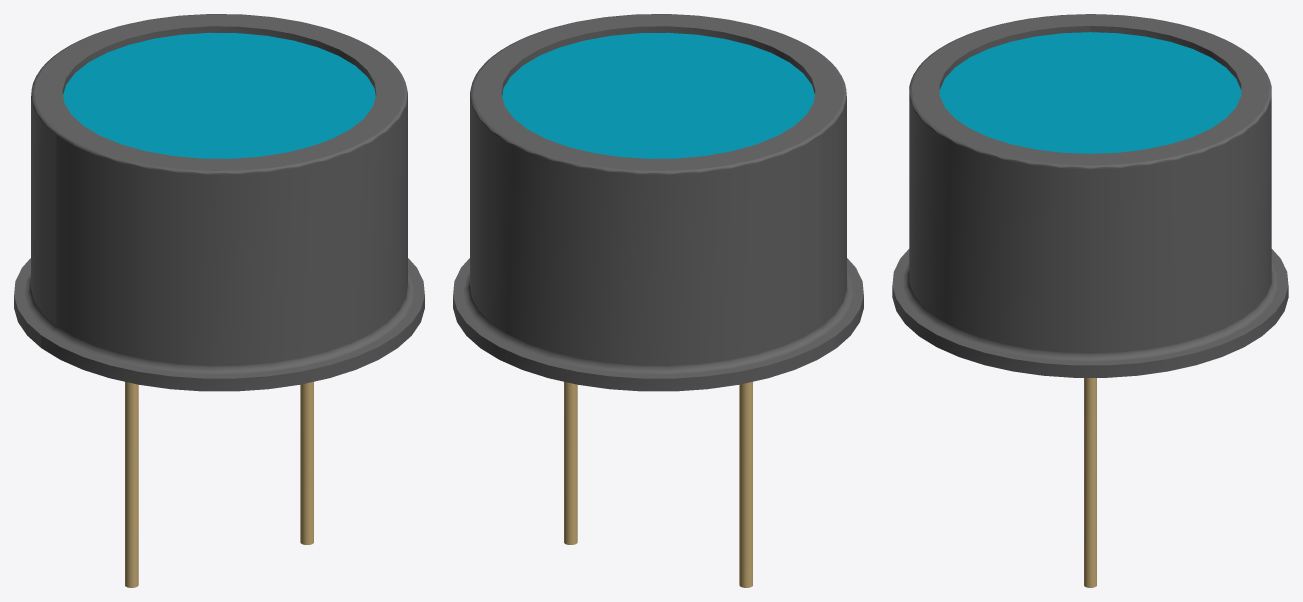
The model's file is kc-to-8-2_window.glb.
The picture shows the model from 3 angles, left to right: view 1: azimuth 30°, elevation 25°; view 2: azimuth 150°, elevation 25°; view 3: azimuth 270°, elevation 25°; orthographic projection. The views are drawn at different scales.
Visible parts, largest first — view 1: 0.16666666666666666_0.16666666666666666_0.16666666666666666_, 0_0.3333333333333333_0.5_0, 0.75_0.5_0.25_0.9; view 2: 0.16666666666666666_0.16666666666666666_0.16666666666666666_, 0_0.3333333333333333_0.5_0, 0.75_0.5_0.25_0.9; view 3: 0.16666666666666666_0.16666666666666666_0.16666666666666666_, 0_0.3333333333333333_0.5_0, 0.75_0.5_0.25_0.9.
Part boxes in pixels (left/top/right/bottom): 0.16666666666666666_0.16666666666666666_0.16666666666666666_: left=14, top=14, right=424, bottom=391; 0_0.3333333333333333_0.5_0: left=63, top=32, right=375, bottom=158; 0.75_0.5_0.25_0.9: left=125, top=381, right=313, bottom=587; 0.16666666666666666_0.16666666666666666_0.16666666666666666_: left=453, top=14, right=863, bottom=391; 0_0.3333333333333333_0.5_0: left=502, top=32, right=814, bottom=158; 0.75_0.5_0.25_0.9: left=564, top=381, right=752, bottom=587; 0.16666666666666666_0.16666666666666666_0.16666666666666666_: left=892, top=14, right=1288, bottom=377; 0_0.3333333333333333_0.5_0: left=939, top=32, right=1241, bottom=153; 0.75_0.5_0.25_0.9: left=1084, top=378, right=1096, bottom=587.
Bounding box in the file's own units: 1.44 × 1.82 × 1.44.
